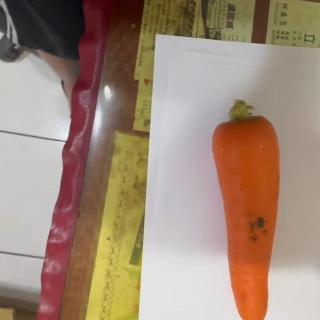carrot: (212, 100, 280, 320)
